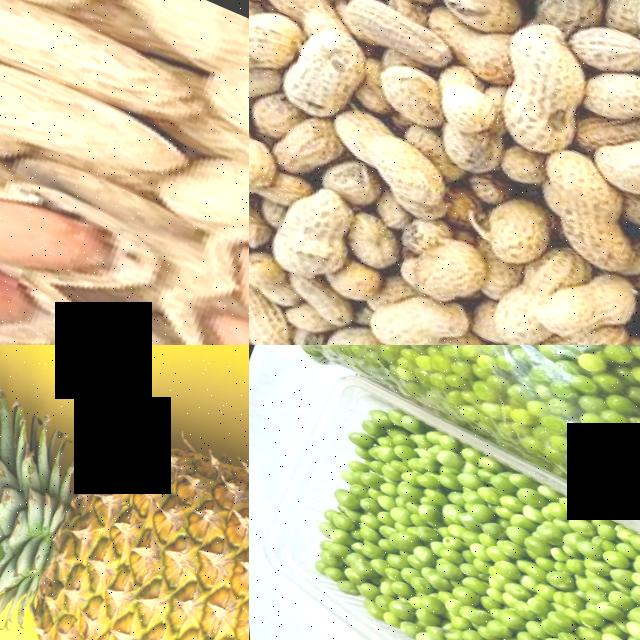peanuts: (0, 18, 177, 235), (0, 0, 202, 133), (0, 148, 115, 314), (475, 14, 607, 145), (176, 7, 249, 226), (515, 146, 635, 260), (251, 182, 359, 290), (327, 118, 451, 211), (269, 19, 372, 128), (327, 0, 454, 72), (396, 228, 491, 314), (188, 213, 249, 345), (462, 189, 551, 273), (359, 56, 448, 132), (353, 281, 455, 345), (249, 0, 307, 88), (287, 315, 378, 345)
peas: (266, 404, 640, 640)
pineapple: (0, 349, 249, 640)
